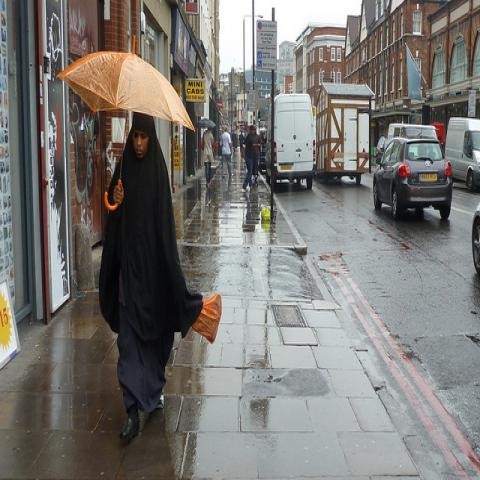car: (373, 140, 453, 220), (471, 202, 479, 278), (258, 129, 267, 173), (376, 136, 388, 163), (233, 125, 246, 143)
truck: (265, 92, 316, 194), (443, 116, 479, 197), (387, 123, 439, 145)
